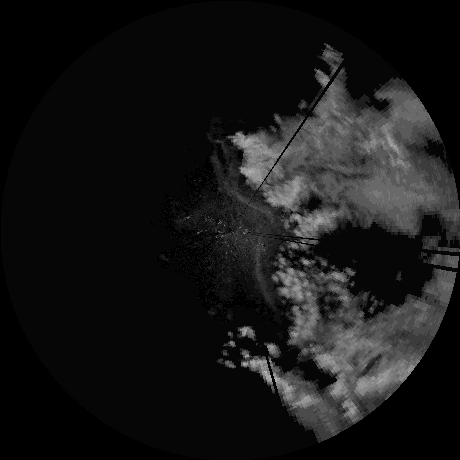frontgust: (217, 154, 280, 225), (254, 230, 279, 311)
